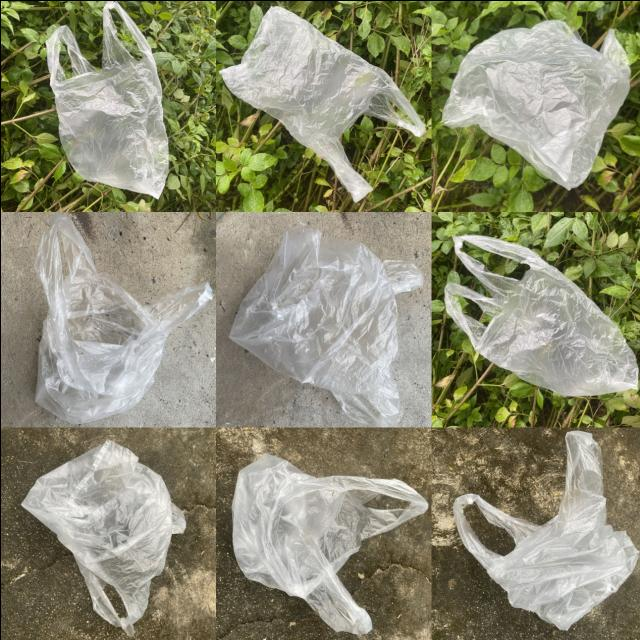plastik: (219, 6, 425, 201), (229, 227, 423, 426), (34, 213, 212, 422), (453, 430, 637, 629), (231, 453, 426, 633), (21, 439, 185, 636), (441, 19, 630, 188), (444, 234, 637, 395), (45, 0, 167, 197)
